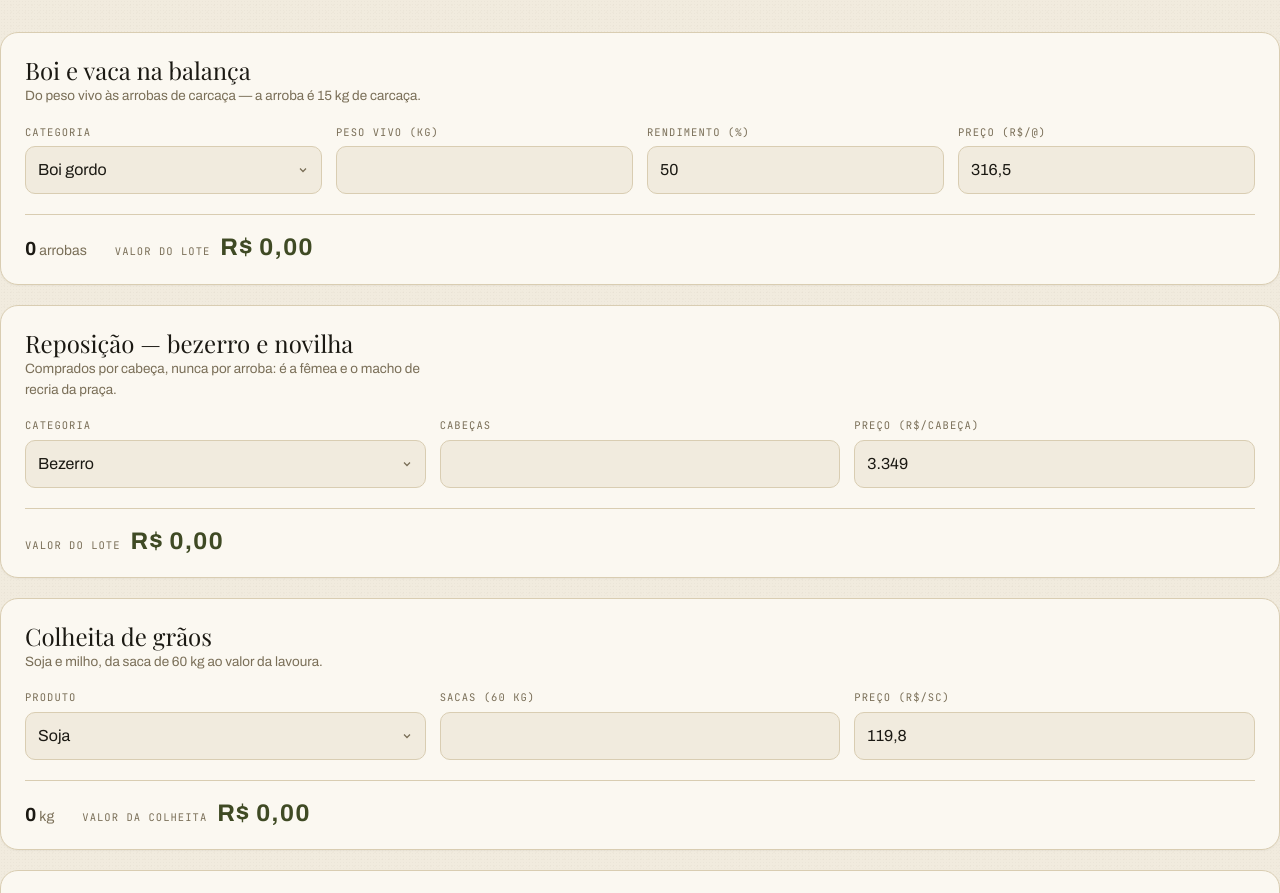
Calculadora › pré-preenche o preço do boi e troca para o da vaca
Expected: the field labelled "Preço (R$/@)" holds "316,5", x1=958 y1=146 x2=1255 y2=194
Select "Vaca gorda" in the dropdown named "categoria do gado": (174, 170) x1=25 y1=146 x2=322 y2=194
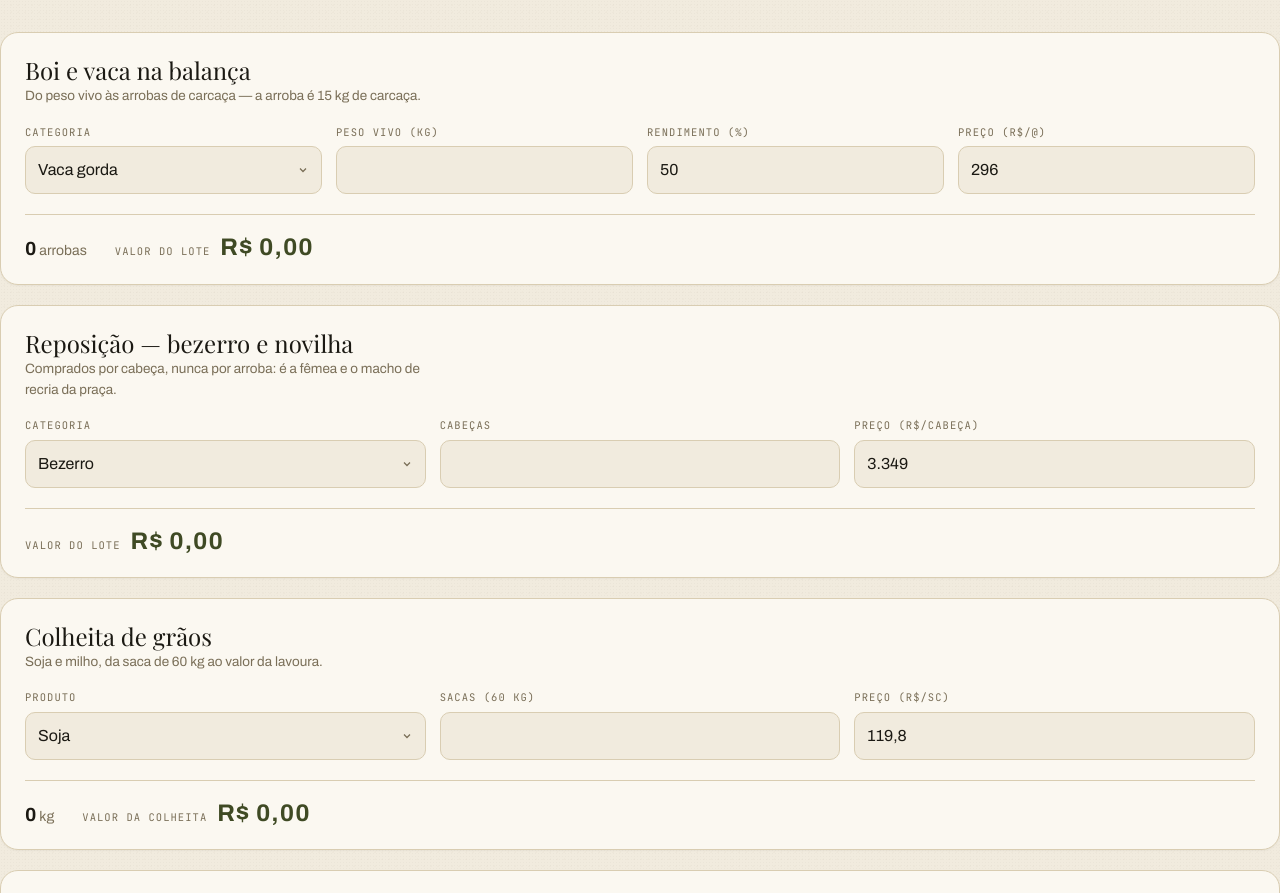
Expected: the field labelled "Preço (R$/@)" holds "296", x1=958 y1=146 x2=1255 y2=194
